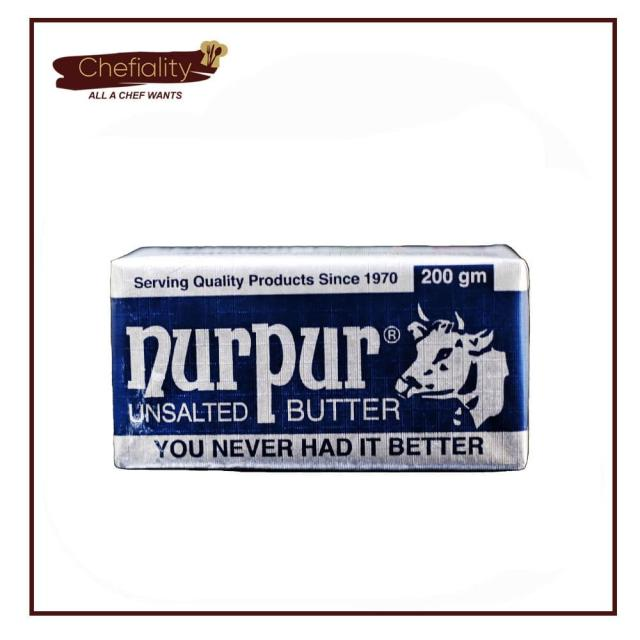butter: (109, 244, 530, 472)
